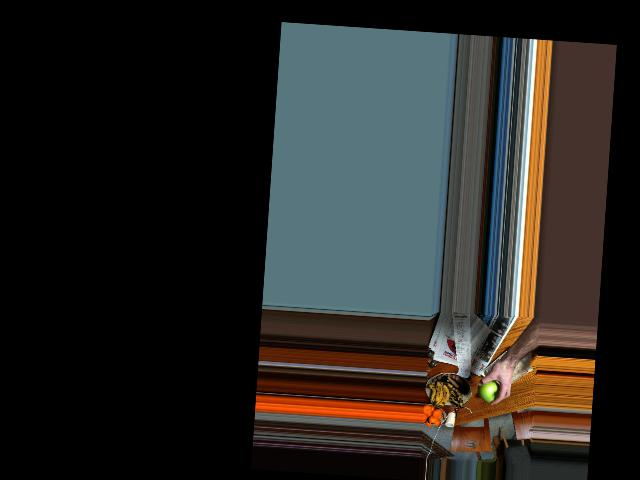apple: (478, 378, 500, 404)
